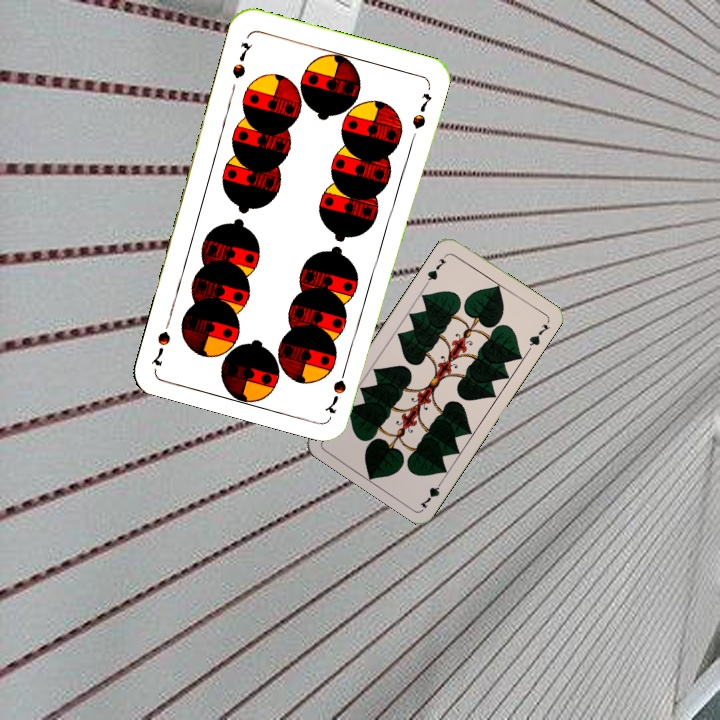G7: (416, 474, 446, 511), (423, 250, 450, 286)
S7: (322, 360, 350, 417), (228, 38, 256, 82)
